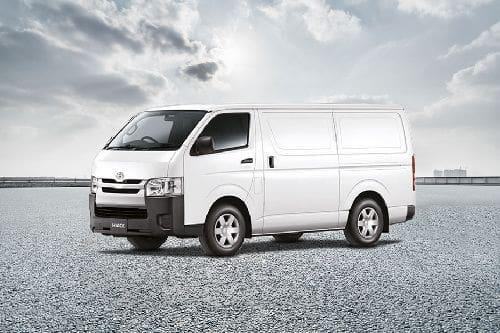car: (72, 99, 425, 262)
